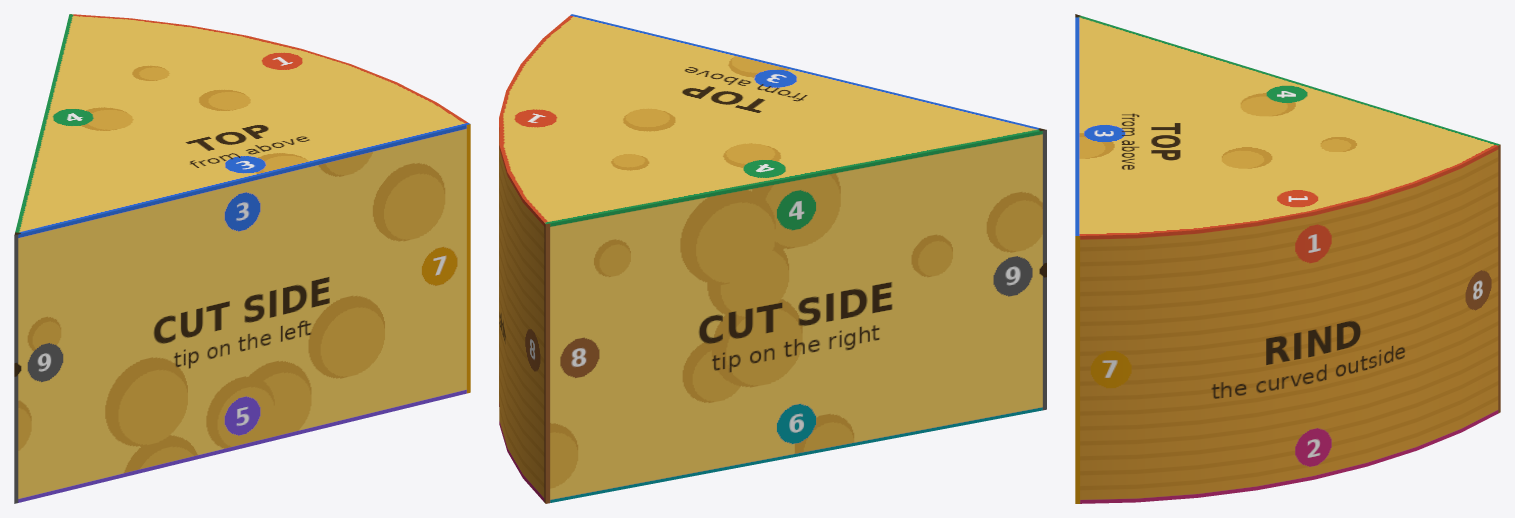
Rendered from cheese-wedge.obj.
3 renders of one model, left to right at view 1: azimuth 30°, elevation 25°; view 2: azimuth 150°, elevation 25°; view 3: azimuth 270°, elevation 25°, orthographic. The views are drawn at different scales.
Parts seen in each view (by area): view 1: cheese_wedge; view 2: cheese_wedge; view 3: cheese_wedge.
Part boxes in pixels (box(x1,y1,x2,y2)): cheese_wedge: box(14, 14, 470, 503); cheese_wedge: box(499, 14, 1046, 503); cheese_wedge: box(1075, 14, 1500, 503).
Size of the model in its own units: 3.2 by 1.8 by 2.59.
1 material, 1 textured.
